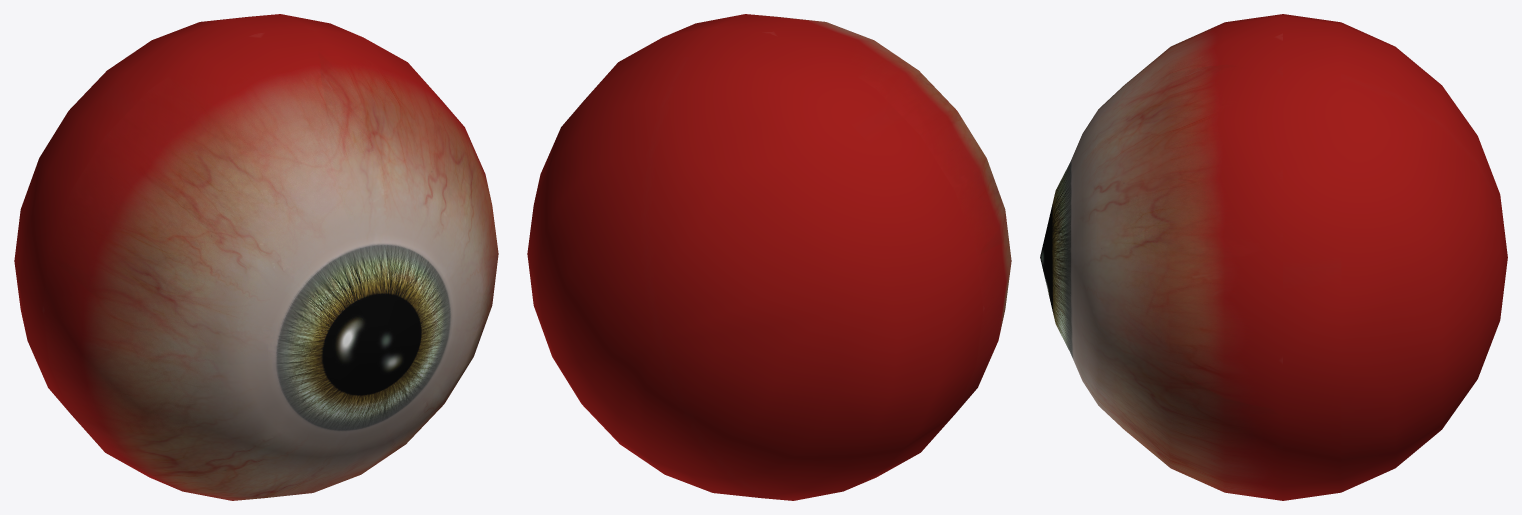
The model's file is DefaultAvatar.glb.
The picture shows the model from 3 angles, left to right: view 1: azimuth 30°, elevation 25°; view 2: azimuth 150°, elevation 25°; view 3: azimuth 270°, elevation 25°; orthographic projection.
Parts seen in each view (by area): view 1: Human_Eye; view 2: Human_Eye; view 3: Human_Eye.
Part boxes in pixels (left/top/right/bottom): Human_Eye: left=14, top=14, right=498, bottom=500; Human_Eye: left=527, top=14, right=1011, bottom=500; Human_Eye: left=1040, top=14, right=1507, bottom=500.
Size of the model in its own units: 1.13 by 1.13 by 1.08.
1 material, 1 textured.
